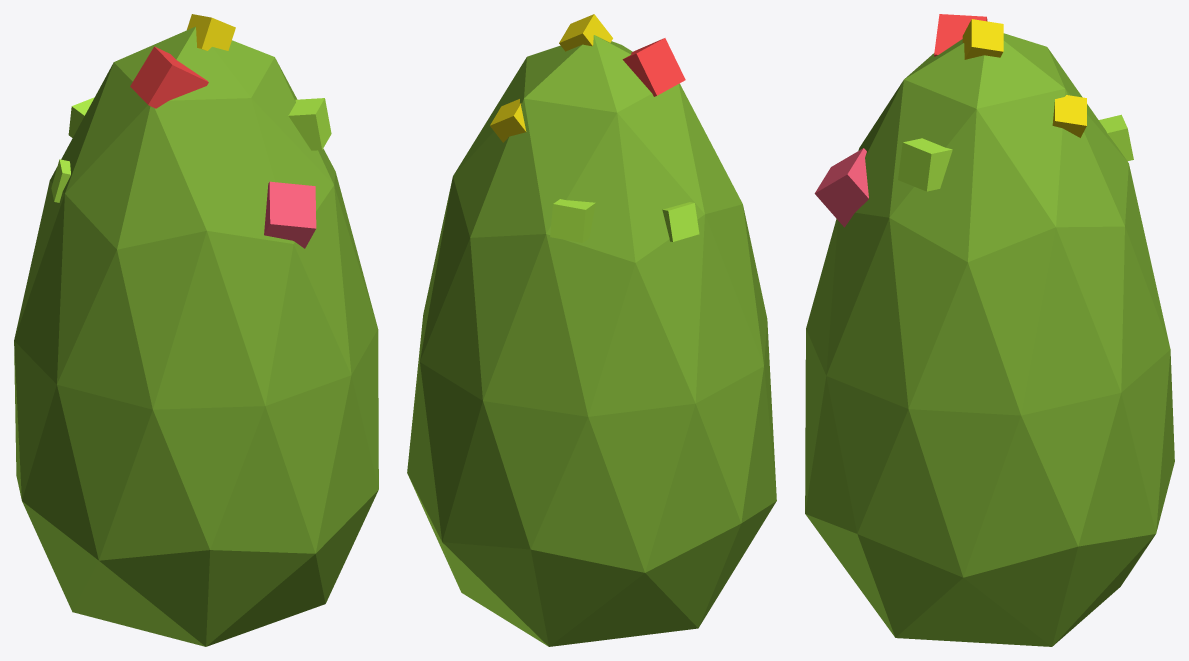
File: Bush Tree.FBX
The picture shows the model from 3 angles, left to right: view 1: azimuth 30°, elevation 25°; view 2: azimuth 150°, elevation 25°; view 3: azimuth 270°, elevation 25°; orthographic projection.
Parts seen in each view (by area): view 1: Object009; view 2: Object009; view 3: Object009.
Part boxes in pixels (x1,y1,x2,y2): Object009: [14, 14, 378, 646]; Object009: [407, 14, 776, 646]; Object009: [805, 14, 1174, 646].
Bounding box in the file's own units: 24.21 × 44.89 × 24.03.
Materials: 1 (1 with a texture image).
